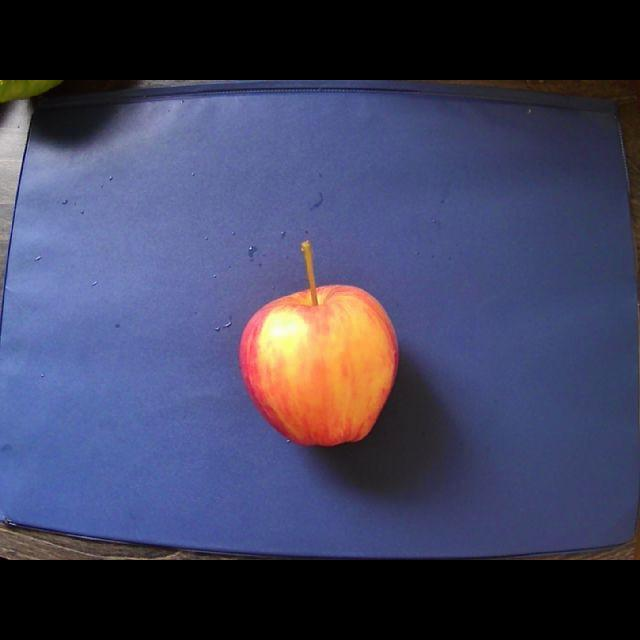manzana: (240, 240, 399, 446)
